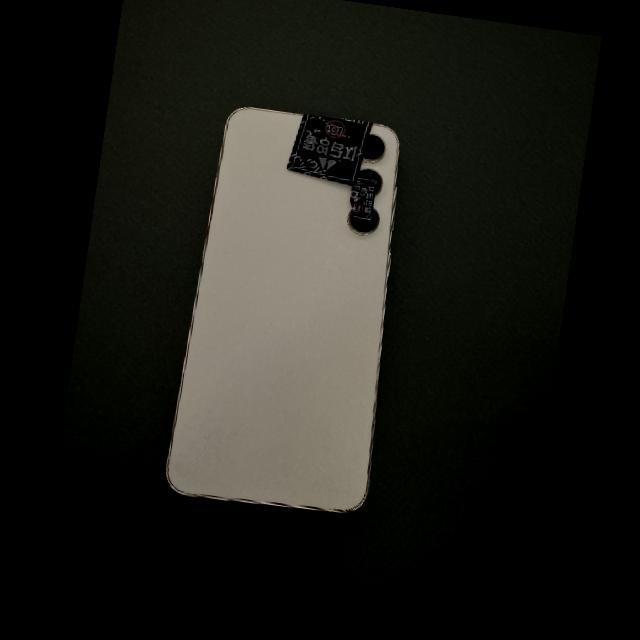lens: (348, 207, 379, 235), (356, 168, 381, 191)
phone: (167, 108, 399, 511), (362, 133, 384, 161)
sticker: (286, 114, 373, 187), (350, 175, 377, 223)
